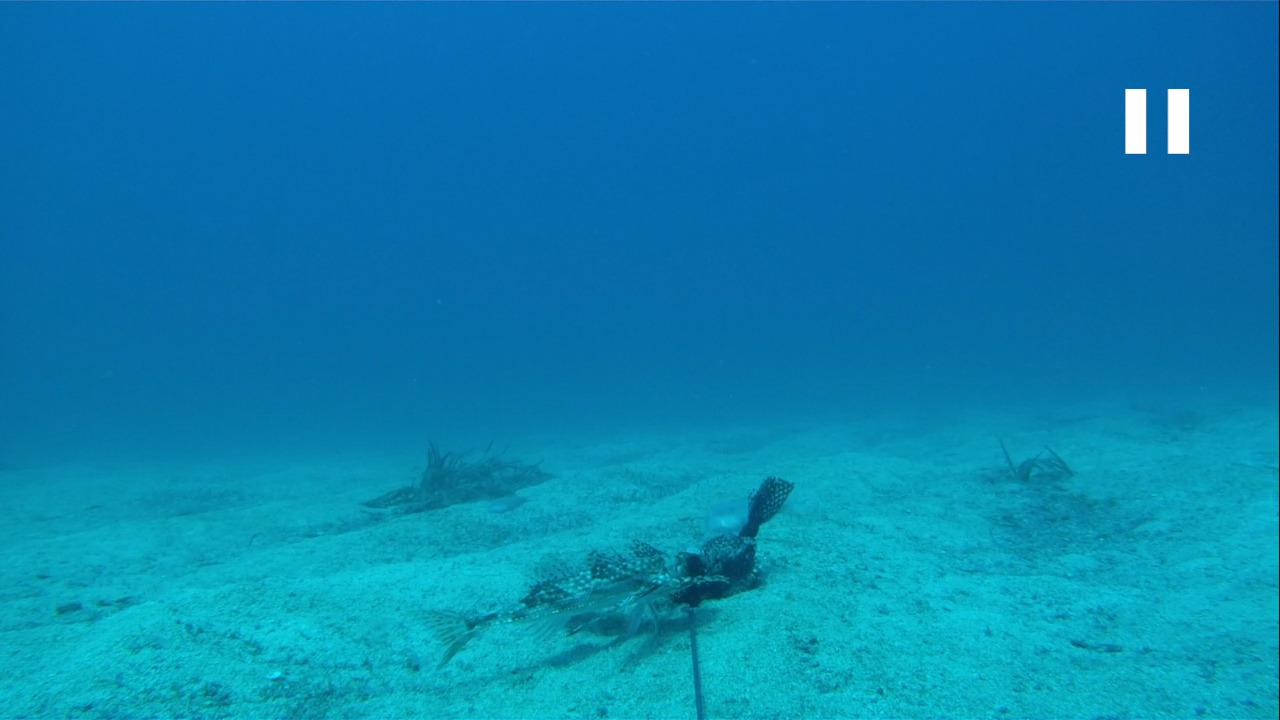dactylopterus: (421, 533, 728, 667)
